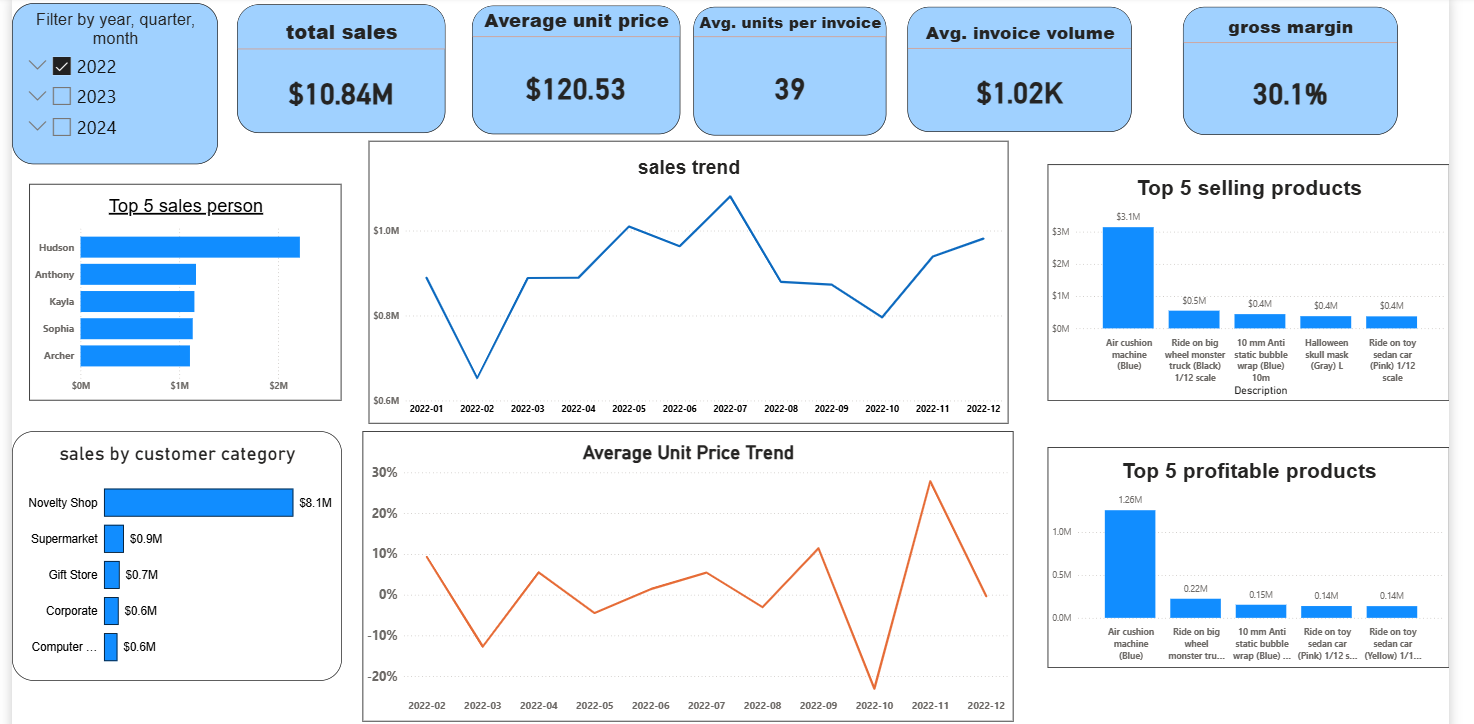

The dashboard page shown, as its layout file describes it:
{"tool":"powerbi","page":{"name":"sales dashboard","canvas":[1980,1020],"ordinal":0},"visuals":[{"type":"clusteredBarChart","title":"Top 5 sales person","fields":{"Category":["sales all from wwimporters.sales person.1"],"Y":["sales all from wwimporters.total before tax"]},"box":[0,302,406,296],"z":0},{"type":"lineChart","title":"sales trend ","fields":{"Y":["sales all from wwimporters.total before tax"],"Category":["date Table.year-month"]},"box":[498,208,882,390],"z":1000},{"type":"card","title":"total sales","fields":{"Values":["sales all from wwimporters.total before tax"]},"box":[310.8,10.3,286.8,176.9],"z":2000},{"type":"card","title":"Average unit price ","fields":{"Values":["sales all from wwimporters.Unit Price"]},"box":[633.7,12,286.8,176.9],"z":3000},{"type":"card","title":"Avg. units per invoice","fields":{"Values":["sales all from wwimporters.avg uints per invoice"]},"box":[939.4,13.7,266.2,176.9],"z":4000},{"type":"card","title":"gross margin","fields":{"Values":["sales all from wwimporters.gross profit"]},"box":[1613.1,13.7,295.6,176.2],"z":5000},{"type":"columnChart","title":"Top 5 selling products ","fields":{"Category":["sales all from wwimporters.Description"],"Y":["sales all from wwimporters.total before tax"]},"box":[1426,230,554,326],"z":6000},{"type":"clusteredColumnChart","title":"Top 5 profitable products ","fields":{"Category":["sales all from wwimporters.Description"],"Y":["sales all from wwimporters.top profitable products"]},"box":[1426,620,554,304],"z":7000},{"type":"clusteredBarChart","title":"sales by customer category","fields":{"Category":["Sheet1.CustomerCategoryName"],"Y":["sales all from wwimporters.total before tax"]},"box":[0,620,454,344],"z":8000},{"type":"slicer","title":"Filter by year, quarter, month","fields":{"Values":["date Table.year","date Table.year-month"]},"box":[0,8,284,222],"z":9000},{"type":"lineChart","title":"Average Unit Price Trend","fields":{"Category":["date Table.Date Hierarchy.year-month"],"Y":["Sheet1.Measureprice % change"]},"box":[492,620,896,400],"z":10000},{"type":"card","title":"Avg. invoice volume ","fields":{"Values":["sales all from wwimporters.total before tax"]},"box":[1233.3,13.7,309.3,172.3],"z":11000}]}

Visuals, with their boxes in screenshot pixels (x1, y1, x2, y2):
"Top 5 sales person" clusteredBarChart: {"x1": 4, "y1": 216, "x2": 299, "y2": 431}
"sales trend " lineChart: {"x1": 366, "y1": 147, "x2": 1007, "y2": 431}
"total sales" card: {"x1": 230, "y1": 4, "x2": 438, "y2": 132}
"Average unit price " card: {"x1": 465, "y1": 5, "x2": 673, "y2": 134}
"Avg. units per invoice" card: {"x1": 687, "y1": 6, "x2": 881, "y2": 135}
"gross margin" card: {"x1": 1177, "y1": 6, "x2": 1392, "y2": 134}
"Top 5 selling products " columnChart: {"x1": 1041, "y1": 163, "x2": 1444, "y2": 400}
"Top 5 profitable products " clusteredColumnChart: {"x1": 1041, "y1": 447, "x2": 1444, "y2": 668}
"sales by customer category" clusteredBarChart: {"x1": 4, "y1": 447, "x2": 334, "y2": 697}
"Filter by year, quarter, month" slicer: {"x1": 4, "y1": 2, "x2": 210, "y2": 163}
"Average Unit Price Trend" lineChart: {"x1": 362, "y1": 447, "x2": 1013, "y2": 723}
"Avg. invoice volume " card: {"x1": 901, "y1": 6, "x2": 1126, "y2": 131}
